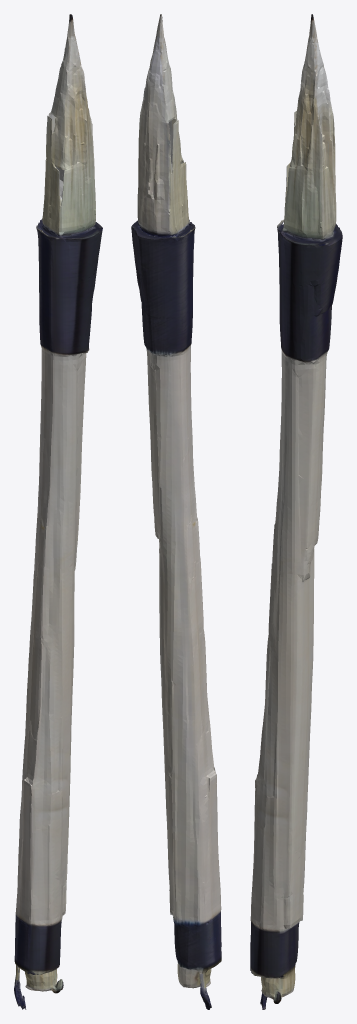
Rendered from Calligraphy_Brush_0407160447_texture.fbx.
3 renders of one model, left to right at view 1: azimuth 30°, elevation 25°; view 2: azimuth 150°, elevation 25°; view 3: azimuth 330°, elevation 25°, orthographic. The views are drawn at different scales.
Visible parts, largest first — view 1: temp; view 2: temp; view 3: temp.
Boxes of the visible parts, box(x1,y1,x2,y2) form: temp: box(14, 14, 102, 1009); temp: box(131, 14, 221, 1009); temp: box(250, 14, 342, 1009).
Bounding box in the file's own units: 16.92 × 198 × 11.39.
1 material, 1 textured.
